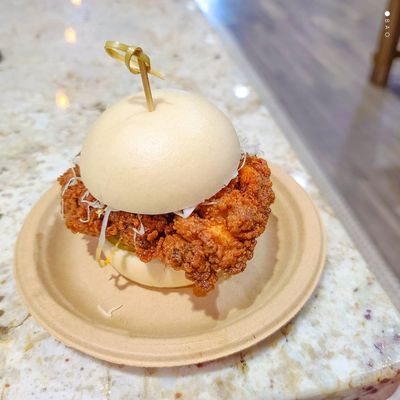soup: (58, 80, 279, 295)
